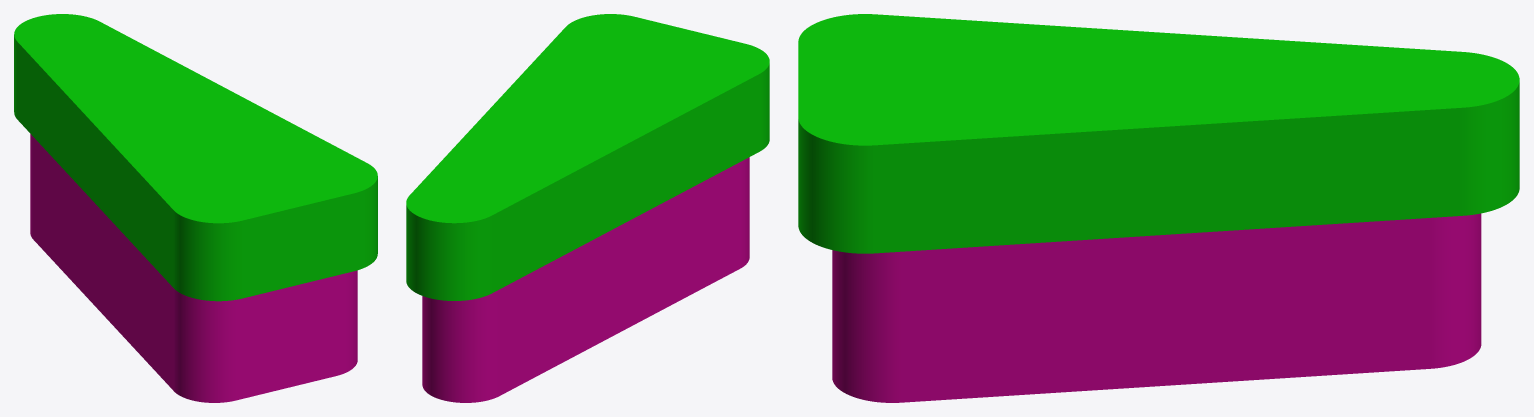
The model's file is 38mmArrow.obj.
3 views of the same model, side by side, from view 1: azimuth 30°, elevation 25°; view 2: azimuth 150°, elevation 25°; view 3: azimuth 270°, elevation 25° (orthographic). The views are drawn at different scales.
Visible parts, largest first — view 1: 38mmArrow.001, 38mmArrow.002; view 2: 38mmArrow.001, 38mmArrow.002; view 3: 38mmArrow.001, 38mmArrow.002.
Boxes of the visible parts, box(x1,y1,x2,y2) form: 38mmArrow.001: box(14, 14, 377, 301); 38mmArrow.002: box(30, 134, 357, 402); 38mmArrow.001: box(406, 14, 769, 300); 38mmArrow.002: box(422, 157, 749, 402); 38mmArrow.001: box(798, 14, 1519, 253); 38mmArrow.002: box(832, 213, 1481, 402).
Bounding box in the file's own units: 16.46 × 15.38 × 38.1.
